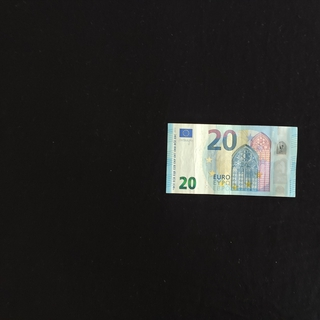20EUROFront: (165, 122, 297, 197)
